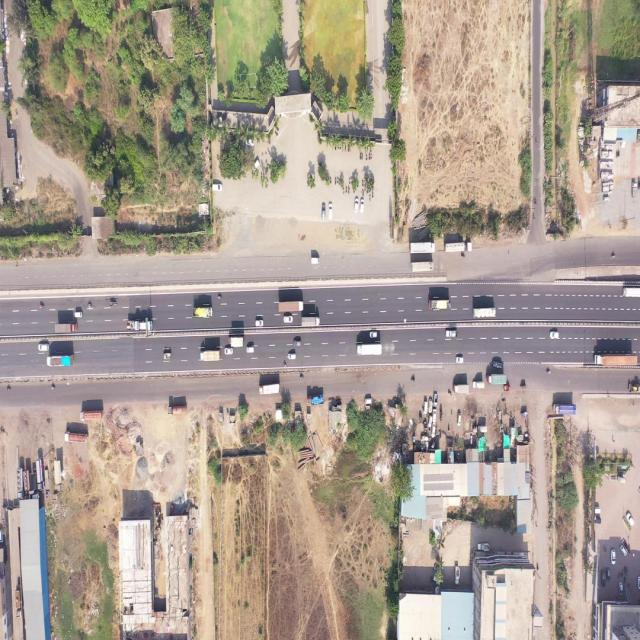3W: (478, 424, 487, 434), (504, 385, 511, 391), (521, 410, 527, 417), (521, 384, 526, 390)
Cars: (626, 512, 635, 527), (600, 569, 606, 588), (620, 544, 627, 558), (284, 315, 294, 324), (492, 360, 502, 369), (549, 331, 559, 340), (618, 581, 624, 596), (38, 344, 49, 352), (212, 184, 222, 192), (354, 197, 359, 213), (611, 548, 616, 564), (253, 159, 260, 169), (246, 138, 254, 146), (456, 356, 464, 364), (428, 398, 432, 414), (255, 320, 264, 327), (360, 198, 364, 212), (246, 346, 254, 353), (370, 331, 377, 339), (224, 348, 233, 354), (458, 413, 462, 426), (322, 203, 325, 220), (329, 203, 332, 220), (75, 312, 83, 318), (428, 416, 432, 428), (637, 574, 640, 590), (595, 516, 601, 524), (424, 400, 427, 414), (365, 398, 372, 404), (0, 528, 3, 542), (607, 567, 610, 581), (288, 354, 296, 359), (595, 507, 600, 515), (294, 341, 301, 346)
LCV: (472, 380, 484, 390), (478, 542, 489, 552), (445, 330, 458, 338), (455, 566, 460, 585), (311, 256, 320, 266), (433, 392, 438, 406), (632, 181, 636, 198), (163, 352, 172, 359), (621, 140, 625, 149)
M2W: (441, 408, 444, 422), (616, 150, 620, 158), (637, 181, 640, 191), (6, 387, 12, 392), (282, 363, 288, 368), (410, 378, 416, 383), (217, 295, 222, 301), (338, 176, 341, 185), (368, 152, 371, 160), (359, 152, 362, 160), (329, 176, 332, 184), (460, 253, 464, 259), (39, 304, 45, 308), (348, 177, 351, 184), (612, 253, 615, 260), (336, 175, 338, 185), (334, 175, 336, 185), (448, 391, 452, 396), (370, 152, 372, 161), (345, 185, 347, 194), (537, 564, 539, 573), (372, 191, 374, 199), (364, 184, 366, 192), (362, 188, 364, 196), (362, 152, 364, 160), (347, 144, 349, 152), (344, 144, 346, 152), (362, 179, 364, 187), (342, 187, 344, 195), (252, 170, 254, 178), (88, 304, 92, 308), (50, 386, 54, 390), (300, 375, 304, 379), (369, 194, 371, 201), (366, 154, 368, 161), (366, 147, 368, 153), (334, 145, 336, 151), (262, 172, 264, 178), (548, 371, 552, 374), (366, 189, 368, 194), (348, 185, 349, 194), (261, 171, 262, 180), (368, 188, 369, 194), (340, 145, 341, 151), (338, 145, 339, 151), (371, 147, 372, 152)
MAV: (593, 354, 638, 367), (35, 457, 44, 495), (409, 242, 435, 255), (410, 262, 434, 274), (444, 242, 472, 252), (64, 432, 87, 444), (278, 302, 304, 312), (17, 467, 24, 499), (80, 410, 102, 420), (54, 324, 78, 333), (623, 287, 640, 298), (168, 405, 186, 415), (15, 590, 21, 620)
Truck: (357, 343, 382, 356), (47, 355, 73, 367), (127, 320, 153, 332), (553, 404, 576, 416), (259, 383, 280, 394), (428, 300, 451, 310), (473, 308, 496, 318), (487, 373, 507, 384), (193, 308, 213, 318), (200, 351, 220, 361), (301, 316, 320, 326), (228, 336, 244, 347), (453, 384, 470, 394), (307, 395, 324, 405)
